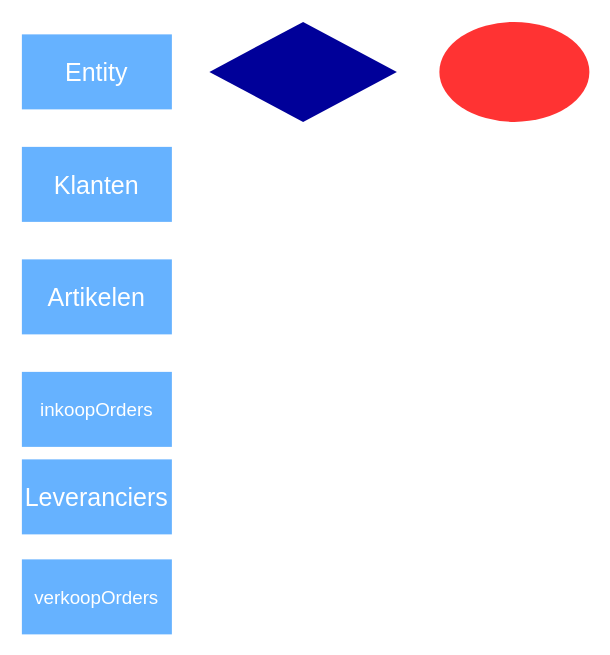
This 610x655 diagram has some shape labels left out. The shapes that lost their labels are listed below. From the top down, each one's centre as x and y in pixels, then its label:
At point 302,71: "Action".
At point 514,71: "Attribute".
